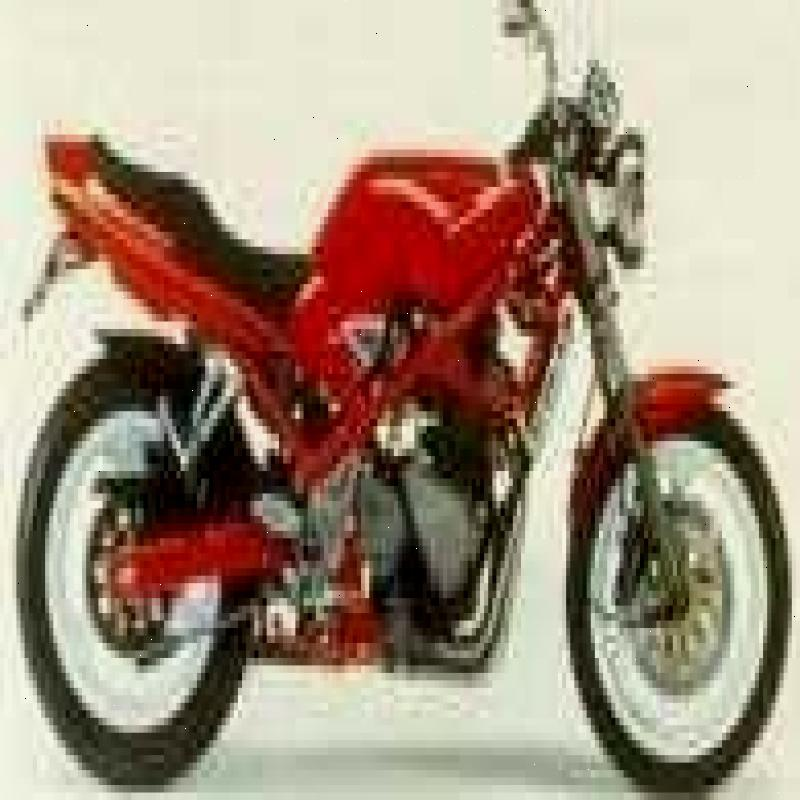bike: (27, 0, 782, 800)
